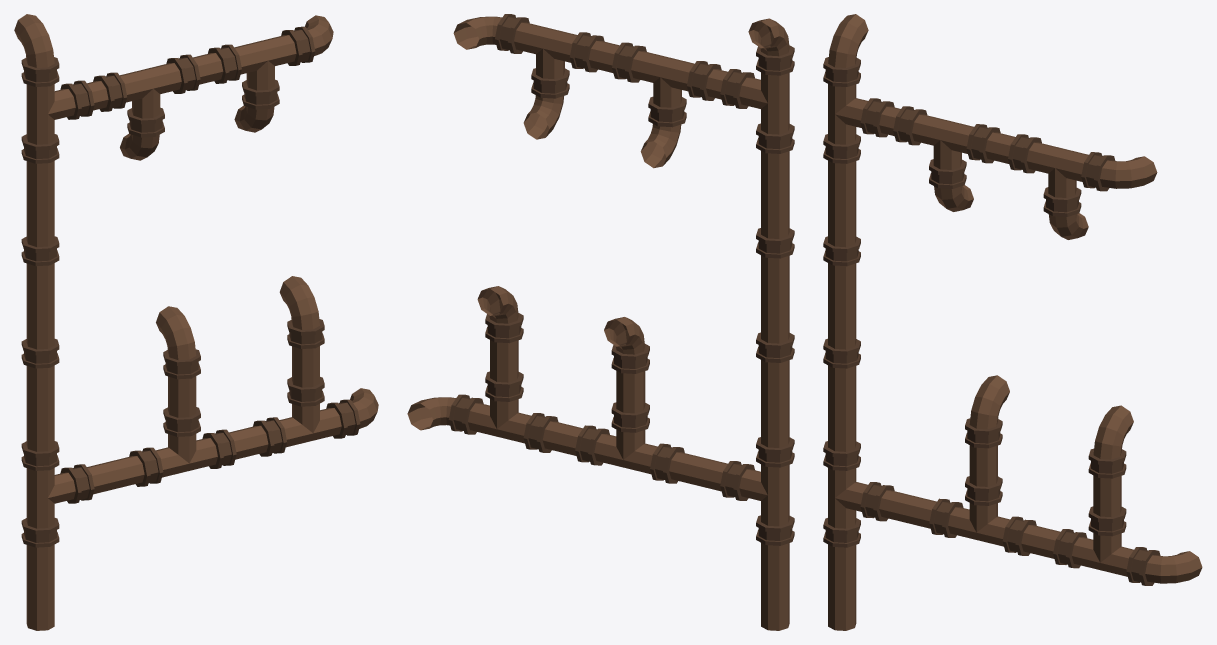
File: SM_Prop_Pipe_Present_01.obj
3 views of the same model, side by side, from view 1: azimuth 30°, elevation 25°; view 2: azimuth 150°, elevation 25°; view 3: azimuth 330°, elevation 25° (orthographic). The views are drawn at different scales.
Visible parts, largest first — view 1: SM_Prop_Pipe_Present_01_0; view 2: SM_Prop_Pipe_Present_01_0; view 3: SM_Prop_Pipe_Present_01_0.
Part boxes in pixels (bbox=[...]): SM_Prop_Pipe_Present_01_0: bbox=[14, 14, 378, 630]; SM_Prop_Pipe_Present_01_0: bbox=[407, 14, 794, 630]; SM_Prop_Pipe_Present_01_0: bbox=[823, 14, 1202, 630].
Size of the model in its own units: 4.46 by 7.05 by 0.4984.
1 material, 1 textured.
